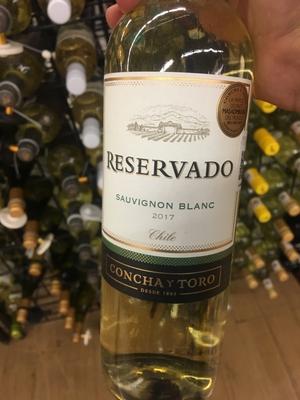reservado sauvignon blanc: (100, 12, 251, 393)
